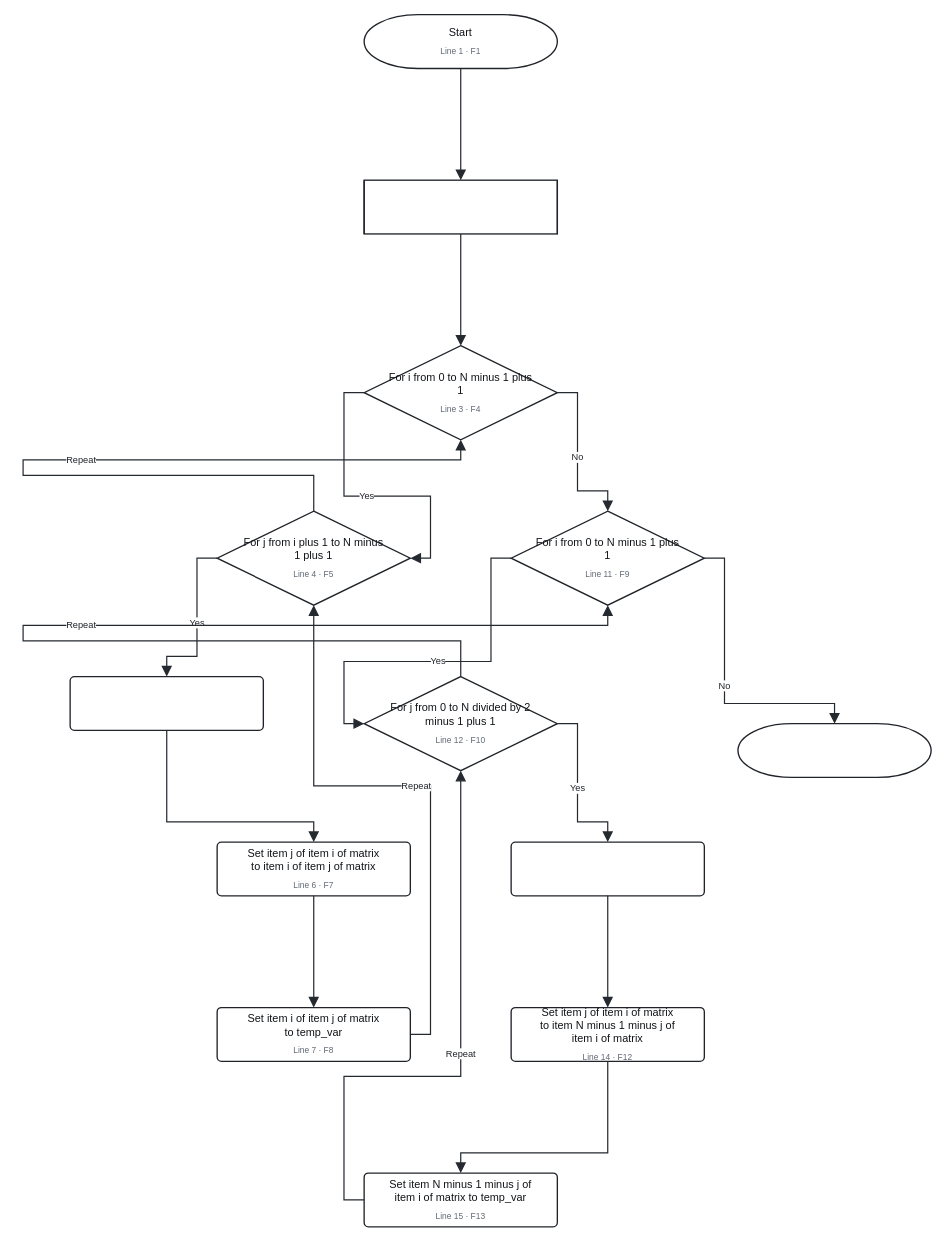
Some shapes in this 947 by 1242 pixel diagram are drawn without their labels. Each missing label, with the box of its shape:
End Line 1 · F2: (737, 723, 931, 778)
Run function rotateMatrix with matrix, N Line 1 · F3: (363, 179, 558, 234)
Set temp_var to item j of item i of matrix Line 13 · F11: (510, 841, 705, 896)
Set temp_var to item j of item i of matrix Line 5 · F6: (69, 676, 264, 731)
